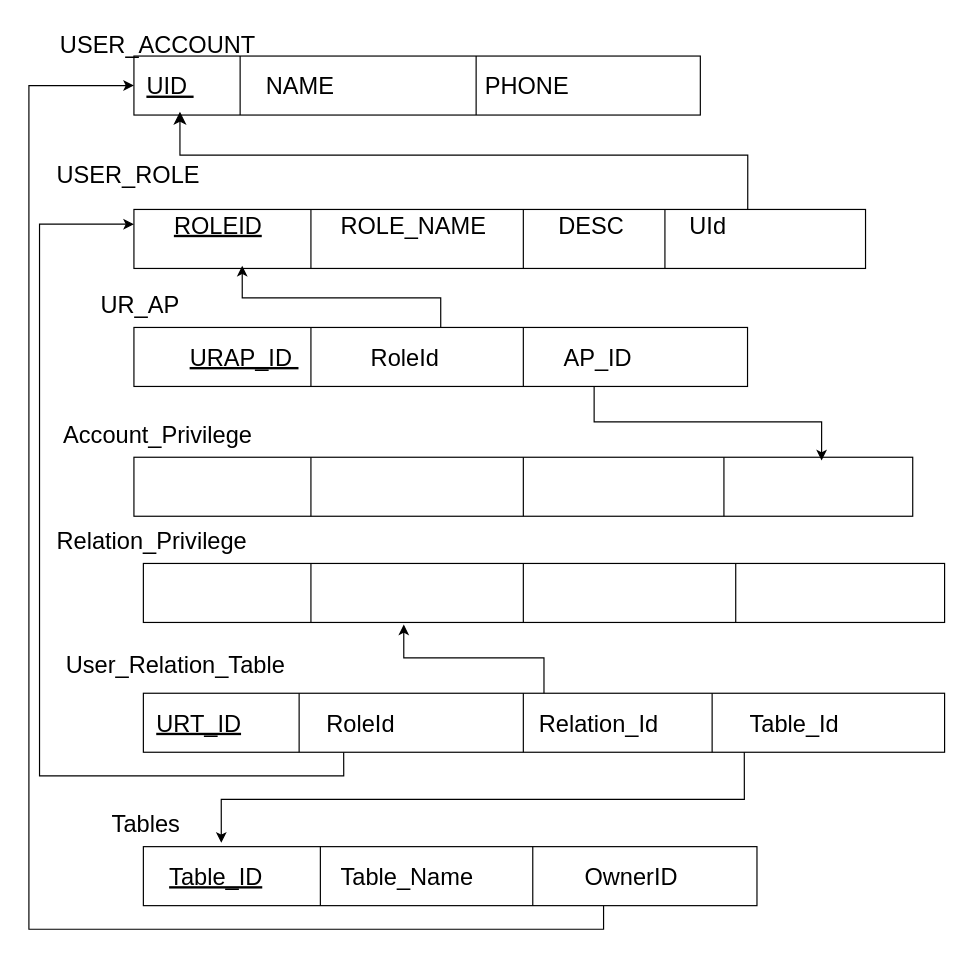
Some shapes in this 965 by 959 pixel diagram are drawn without their labels. The shapes that lost their labels are listed below. From the top down, each one's centre as x and y in pixels, then its label:
At (523,486): "PrivilegeID PrivilegeName PrivilegeType Account_ID".
At (543,592): "PrivilegeID Relation_ID PrivilegeName PrivilegeType".
